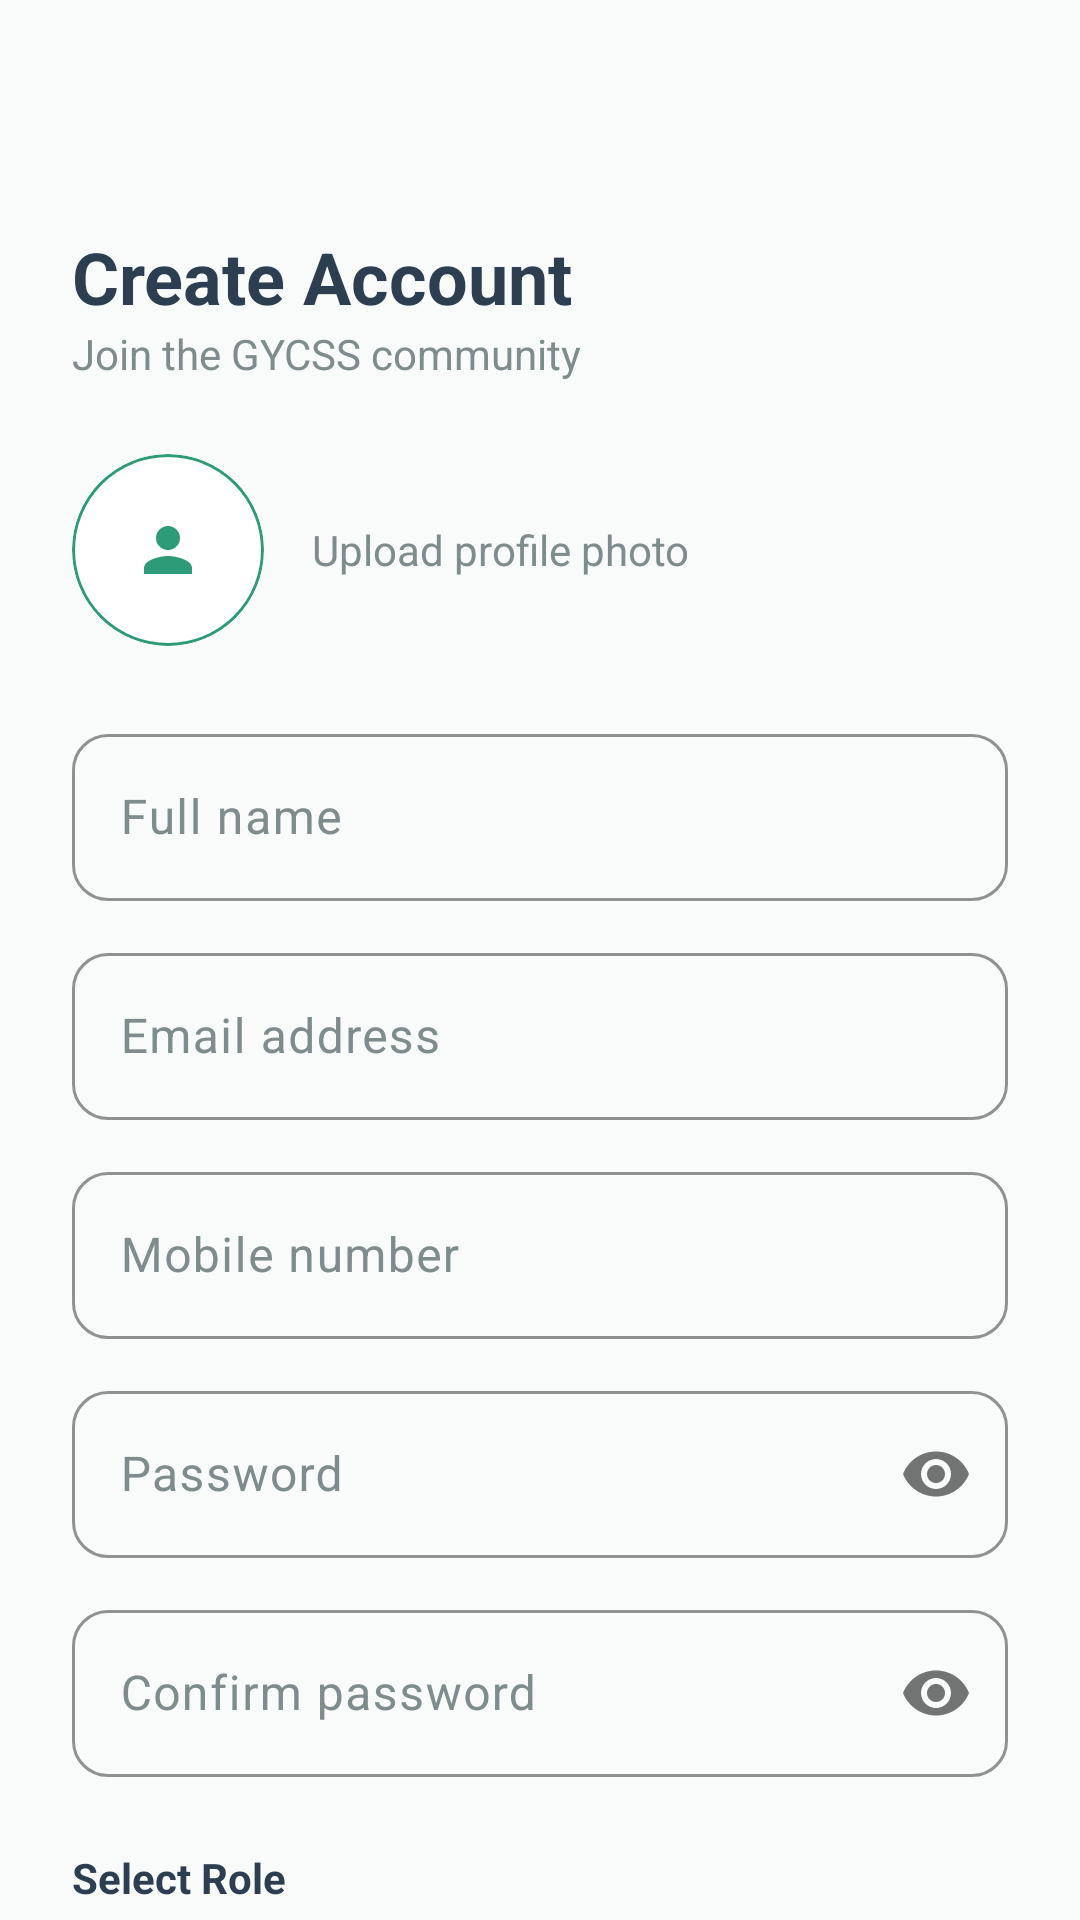

Named icons in this screenshot (1080px×1920px) and their bounding boxes, (x1, y1, x2, y2):
person: (144, 526, 192, 574)
